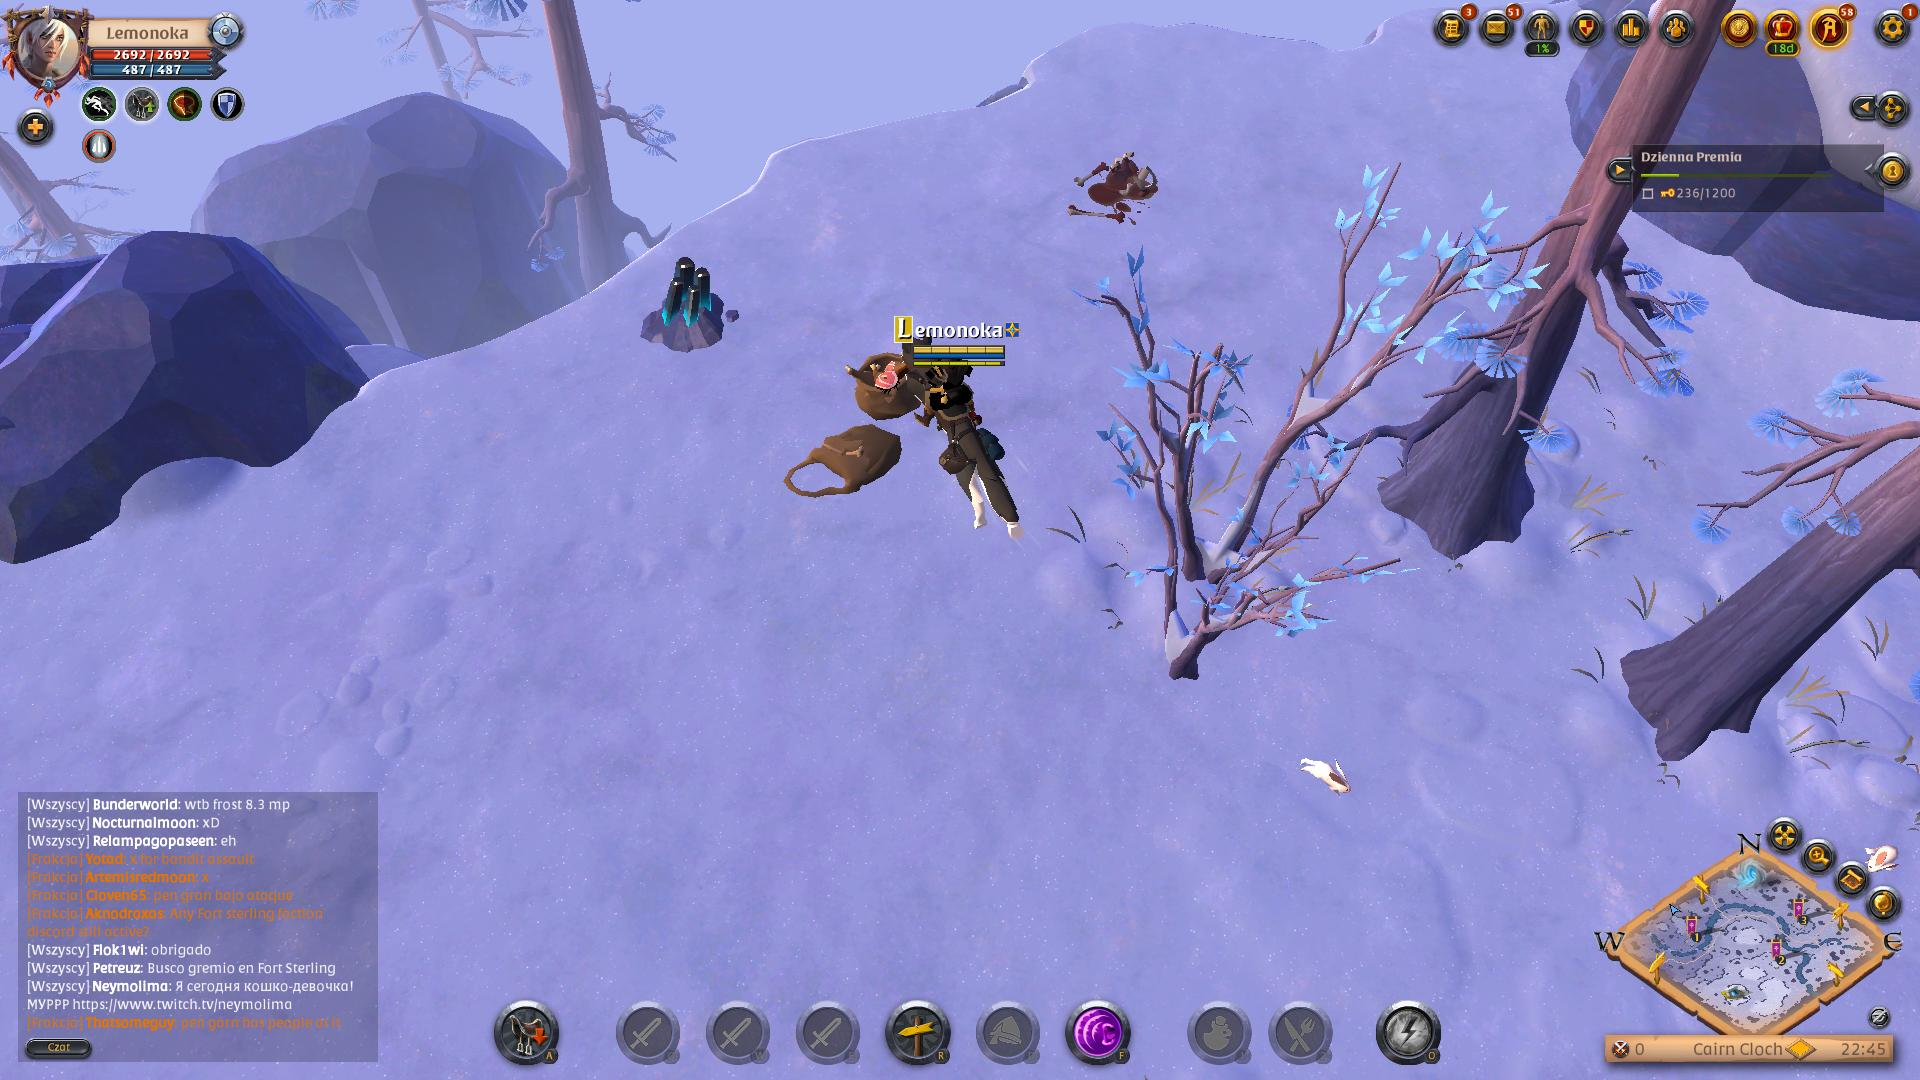ore tier 4: (640, 260, 733, 359)
